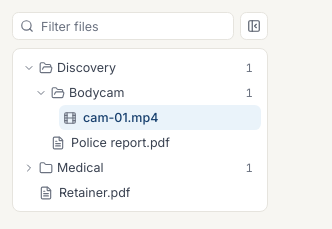
Scenario: DocumentFileTree › the filter narrows to matching files (opening their folders)
Type "er rec" into the search field labelled "Filter files" at (123, 26), box [12,12,234,40]
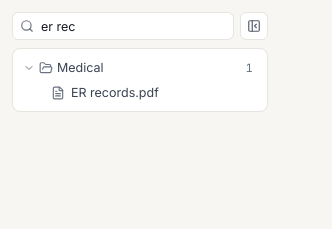
Now the link "ER records.pdf" is shown, box [51,85,159,100]
Now the link "Retainer.pdf" is gone
Now the link "cam-01.mp4" is gone
Replace the text in the search field named "Filter files" with "zzz" at (123, 26), box [12,12,234,40]
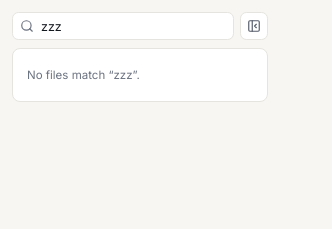
Now the text "No files match “zzz”." is shown, box [27,68,140,82]
